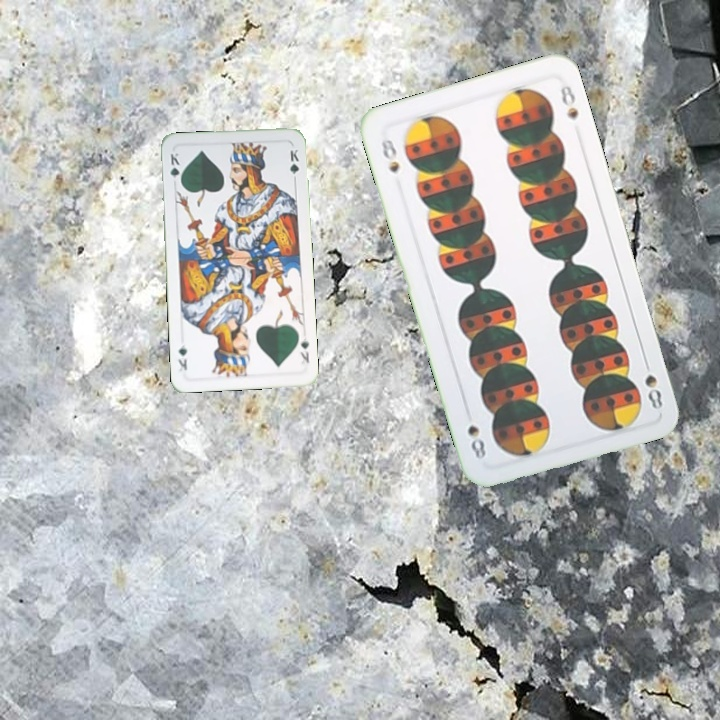GK: (166, 149, 184, 188), (296, 333, 312, 365)
S8: (640, 370, 665, 413), (377, 135, 402, 176)
